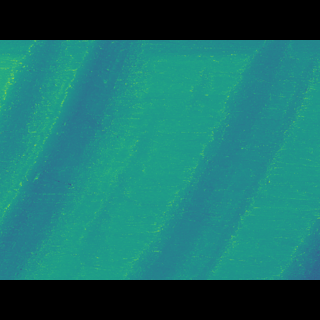Loch: (110, 68, 319, 250), (0, 69, 149, 250)
